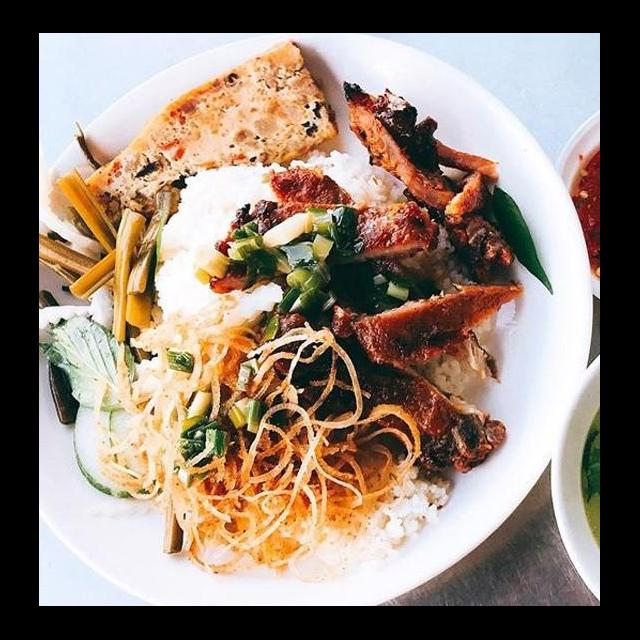bi: (90, 324, 423, 578)
cha: (62, 38, 340, 238)
com: (150, 154, 304, 334), (294, 454, 454, 576), (286, 148, 410, 210)
com suon bi cha: (40, 59, 530, 567)
dua chua: (40, 165, 174, 346)
suon: (260, 166, 520, 390), (262, 300, 508, 482), (340, 80, 518, 292), (199, 166, 442, 296)
